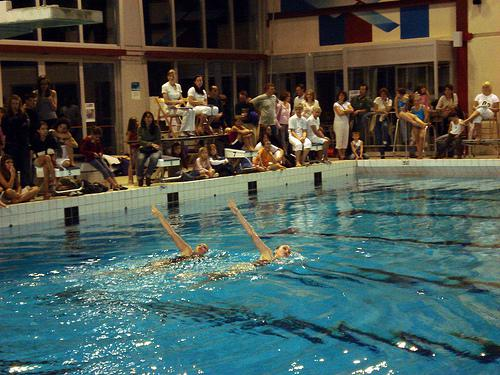swimmer: (214, 196, 293, 286), (145, 203, 209, 267)
